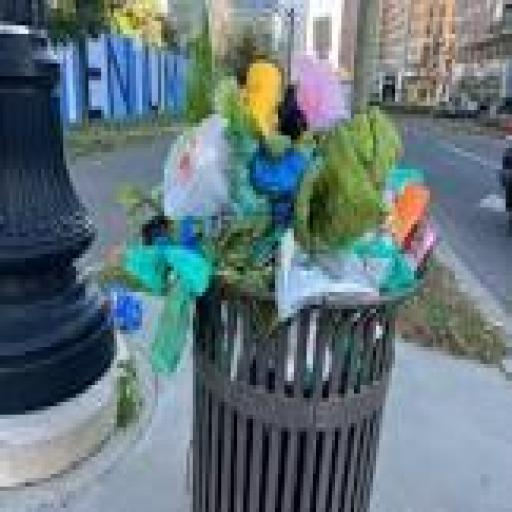poubelle_pleine: (148, 24, 468, 510)
